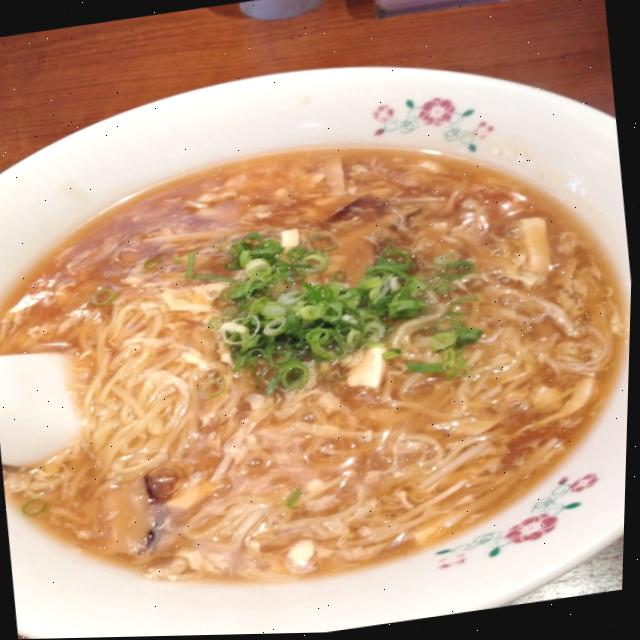面条主食: (0, 97, 637, 620)
